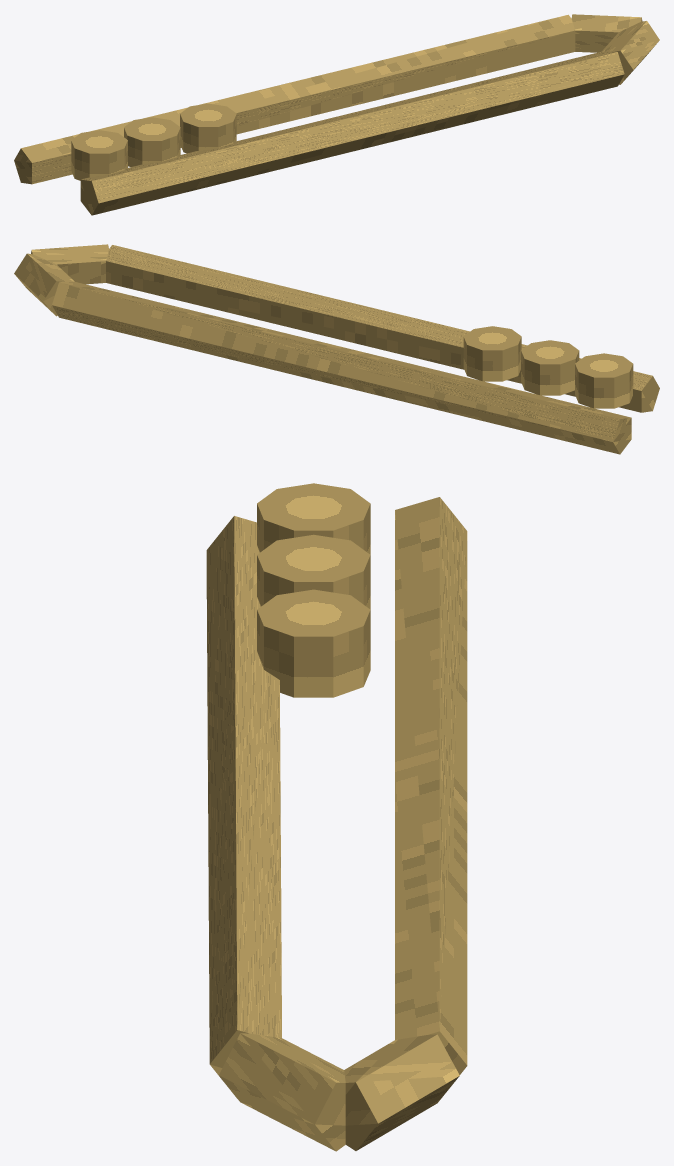
The model's file is gold_hairpin.glb.
3 views of the same model, one above another, from view 1: azimuth 30°, elevation 25°; view 2: azimuth 150°, elevation 25°; view 3: azimuth 270°, elevation 25° (orthographic). The views are drawn at different scales.
Visible parts, largest first — view 1: block_folded wire hairpin 3, block_folded wire hairpin 0, block_bead decoration (×3), block_folded wire hairpin 1, block_folded wire hairpin 2; view 2: block_folded wire hairpin 0, block_folded wire hairpin 3, block_bead decoration (×3), block_folded wire hairpin 2, block_folded wire hairpin 1; view 3: block_folded wire hairpin 0, block_folded wire hairpin 3, block_bead decoration (×3), block_folded wire hairpin 2, block_folded wire hairpin 1.
Part boxes in pixels (<box>): block_folded wire hairpin 3: <box>80,51,624,215</box>; block_folded wire hairpin 0: <box>14,14,575,184</box>; block_bead decoration (×3): <box>71,103,236,180</box>; block_folded wire hairpin 1: <box>571,14,642,52</box>; block_folded wire hairpin 2: <box>602,21,659,84</box>; block_folded wire hairpin 0: <box>52,281,631,454</box>; block_folded wire hairpin 3: <box>106,245,659,412</box>; block_bead decoration (×3): <box>463,326,633,408</box>; block_folded wire hairpin 2: <box>31,244,108,284</box>; block_folded wire hairpin 1: <box>14,253,74,316</box>; block_folded wire hairpin 0: <box>395,497,467,1074</box>; block_folded wire hairpin 3: <box>206,516,281,1096</box>; block_bead decoration (×3): <box>257,483,370,697</box>; block_folded wire hairpin 2: <box>219,1033,345,1151</box>; block_folded wire hairpin 1: <box>344,1034,459,1150</box>.
Size of the model in its own units: 0.045 by 0.00368 by 0.00836.
1 material, 1 textured.
